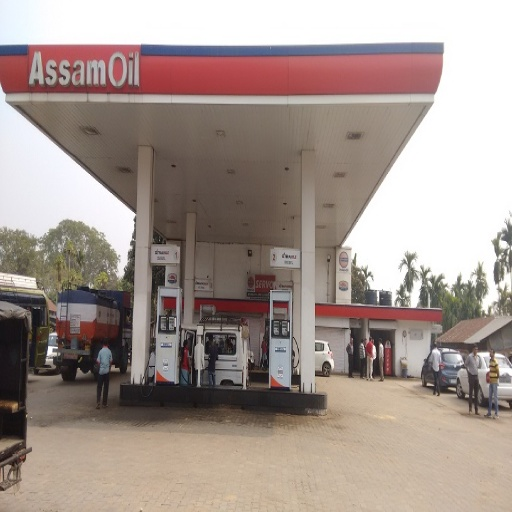roof: (2, 41, 428, 248)
